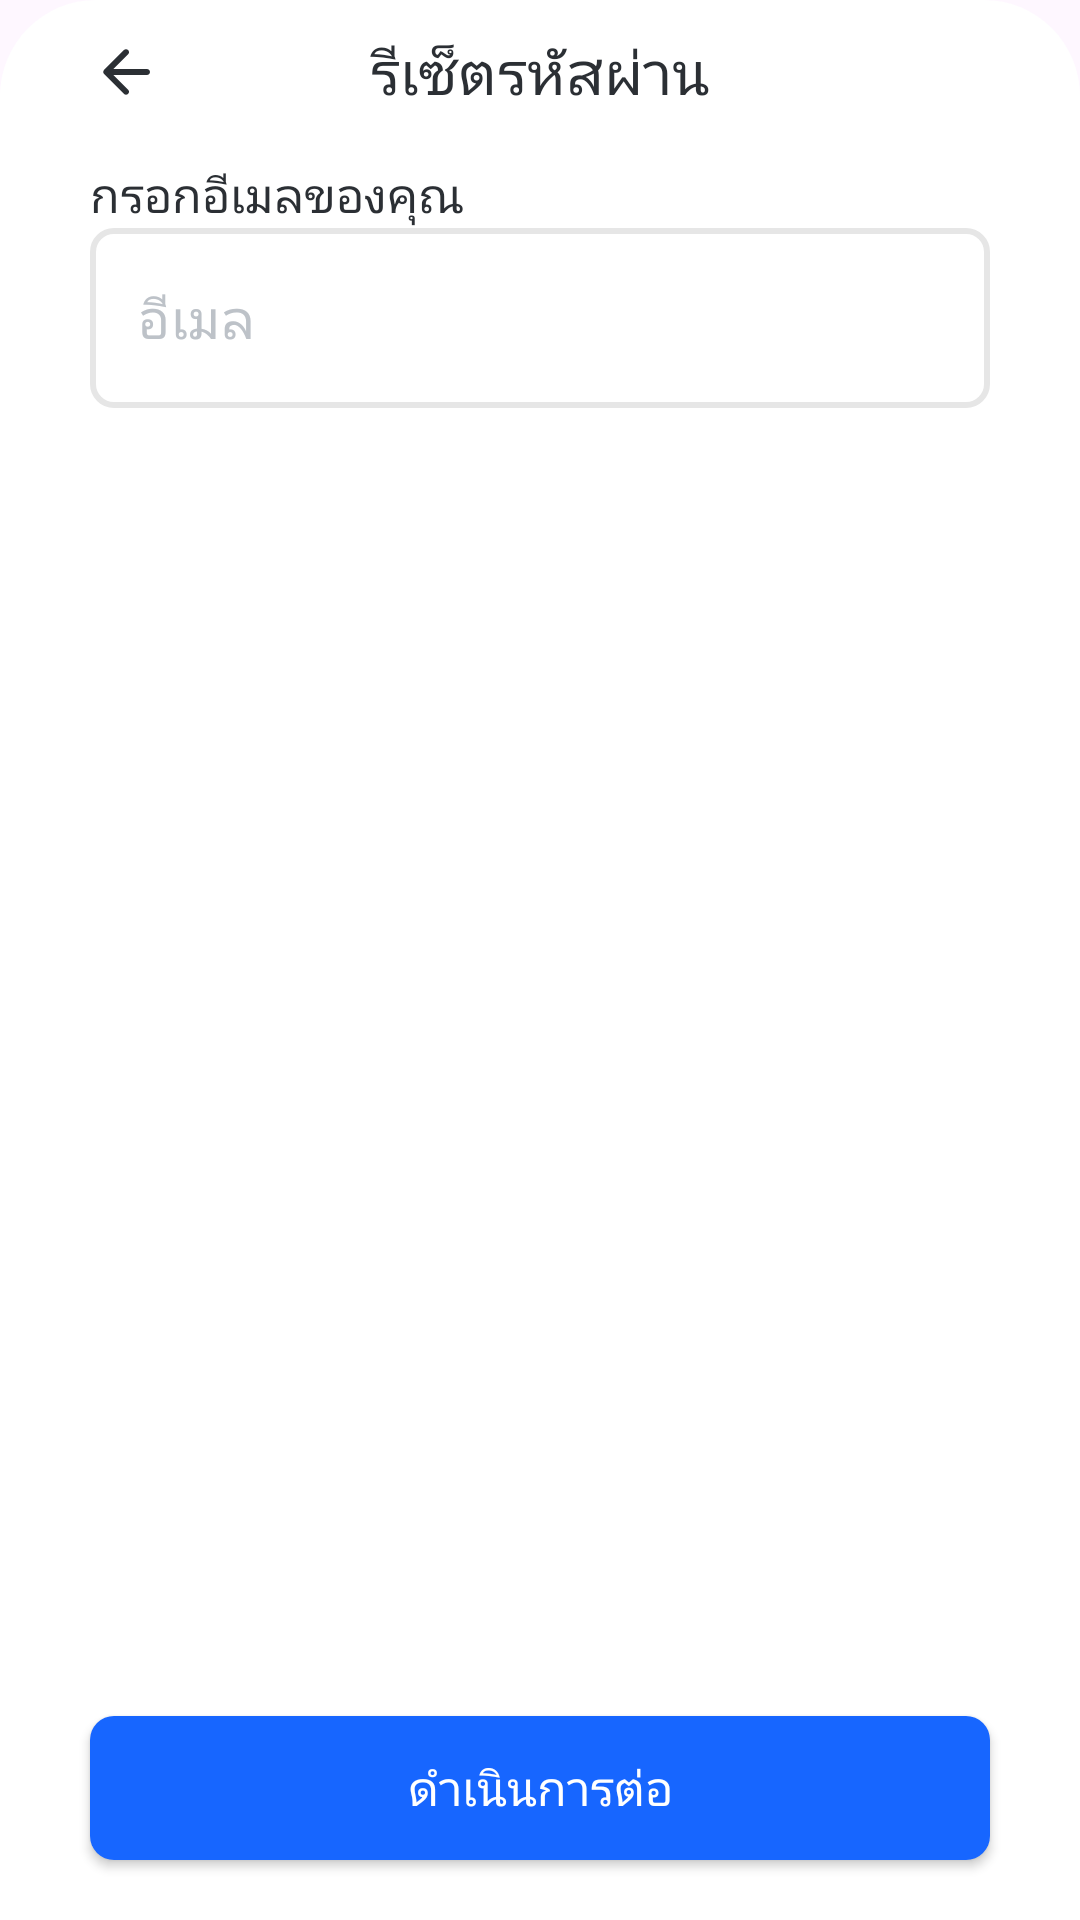

Screen size 1080x1920. Icon name, then its box in pixels as (x1, y1, x2, y2):
ย้อนกลับ: (103, 49, 150, 95)
